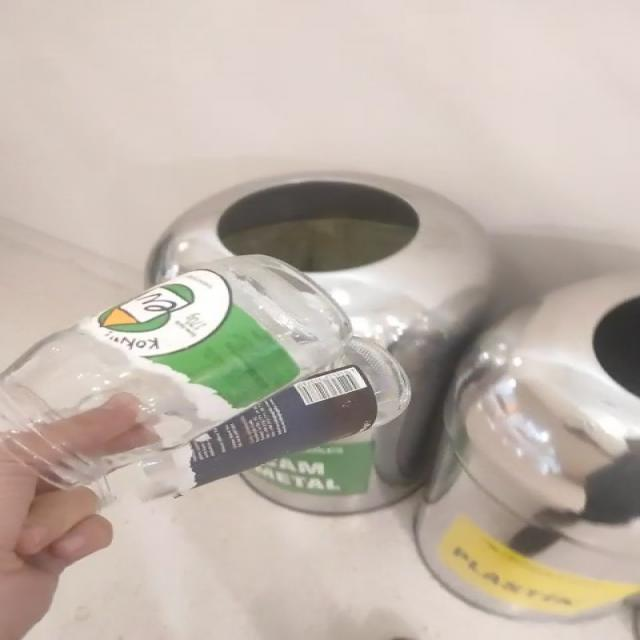Glass: (1, 256, 409, 498)
